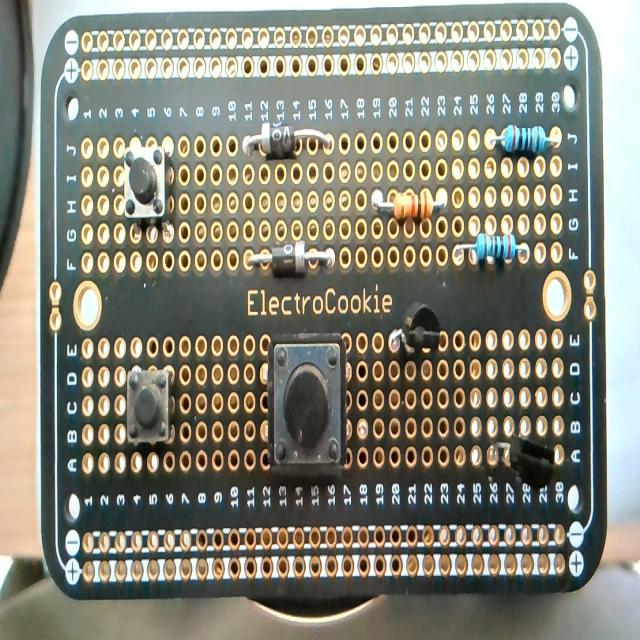diode: (240, 119, 332, 159), (246, 240, 336, 276)
resistor: (493, 116, 559, 162), (452, 232, 528, 267), (371, 188, 443, 221)
switch: (267, 336, 346, 471), (126, 364, 173, 444), (124, 143, 168, 220)
transistor: (486, 416, 556, 503), (388, 303, 446, 362)
